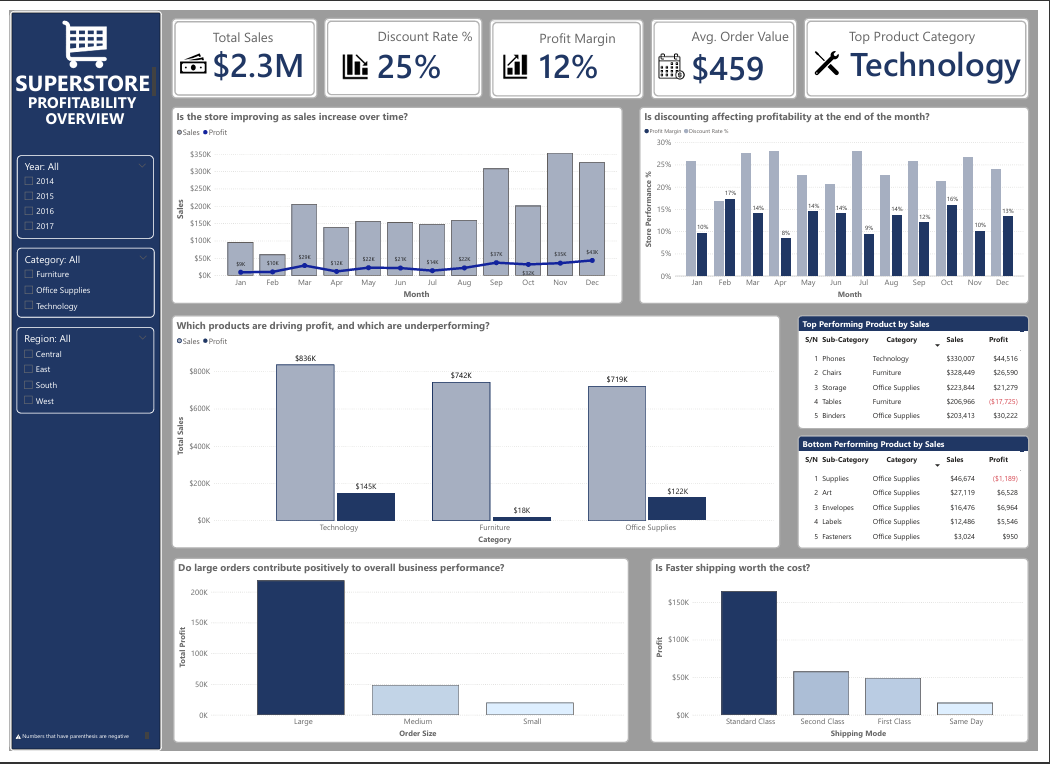

This screenshot's page, from the dashboard's own definition file:
{"tool":"powerbi","page":{"name":"Page 2","canvas":[2500,1800],"ordinal":1},"visuals":[{"type":"shape","box":[0,0,370,1800],"z":0},{"type":"group","id":"g1","title":"Group 1","box":[833.4,34.4,308,168],"z":0,"group":"g9"},{"type":"card","title":"Total Order","fields":{"Values":["Sample - Superstore.Discount Rate %"]},"box":[833.4,52.4,276,150],"z":0,"group":"g1"},{"type":"card","fields":{"Values":["Sum(Orders_Summary.Total Sales)"]},"box":[471.1,54.4,264.5,137.8],"z":0,"group":"g2"},{"type":"card","fields":{"Values":["Sample - Superstore.Profit Margin"]},"box":[1234,68.3,250,119],"z":0,"group":"g7"},{"type":"image","box":[405.6,74.3,80,107.3],"z":0,"group":"g4"},{"type":"textbox","box":[8.3,133.3,351.7,80],"z":0,"group":"g3"},{"type":"shape","box":[1930,17.1,547.5,197.5],"z":1000},{"type":"shape","box":[1165.7,20,375,195],"z":1000,"group":"g8"},{"type":"group","id":"g2","title":"Group 4","box":[462.1,34.4,273.5,157.8],"z":1000,"group":"g4"},{"type":"textbox","box":[462.1,34.4,210,69],"z":1000,"group":"g2"},{"type":"textbox","box":[878.4,34.4,263,64],"z":1000,"group":"g1"},{"type":"card","fields":{"Values":["Sample - Superstore.AOV"]},"box":[1613,77.7,263,110],"z":1000,"group":"g11"},{"type":"textbox","box":[6.9,231.4,351.4,80],"z":1000,"group":"g3"},{"type":"shape","box":[1557.8,19.5,355.7,195.7],"z":2000,"group":"g12"},{"type":"textbox","box":[0,191.4,351.4,80],"z":2000},{"type":"shape","box":[764.1,17.3,385,195],"z":3000},{"type":"lineClusteredColumnComboChart","title":"Is the store improving as sales increase over time?","fields":{"Category":["Sample - Superstore.Month"],"Y":["Sum(Sample - Superstore.Sales)"],"Y2":["Sum(Sample - Superstore.Profit)"]},"box":[392.5,232.5,1097.5,480],"z":4000},{"type":"lineClusteredColumnComboChart","title":"Is discounting affecting profitability at the end of the month?","fields":{"Category":["Sample - Superstore.Month"],"Y":["Sample - Superstore.Profit Margin","Sample - Superstore.Discount Impact%"]},"box":[1530,232.5,947.5,480],"z":5000},{"type":"clusteredColumnChart","title":"Which products are driving profit, and which are underperforming?","fields":{"Category":["Sample - Superstore.Category"],"Y":["Sum(Sample - Superstore.Sales)","Sum(Sample - Superstore.Profit)"]},"box":[393.3,740,1480,566.7],"z":6000},{"type":"tableEx","title":"Top  Performing Product by Sales","fields":{"Values":["Sample - Superstore.S/N","Sample - Superstore.Sub-Category","Sample - Superstore.Category","Sum(Sample - Superstore.Sales)","Sum(Sample - Superstore.Profit)"]},"box":[1915,740,563.3,276.7],"z":7000},{"type":"tableEx","title":"Bottom Performing Product by Sales","fields":{"Values":["Sample - Superstore.Row Number","Sample - Superstore.Sub-Category","Sample - Superstore.Category","Sum(Sample - Superstore.Sales)","Sum(Sample - Superstore.Profit)"]},"box":[1915,1031.7,563.3,276.7],"z":8000},{"type":"clusteredColumnChart","title":"Do large orders contribute positively to overall business performance?","fields":{"Category":["Orders_Summary.Order Size"],"Y":["Sum(Orders_Summary.Total Profit)"]},"box":[396.7,1330,1108,450],"z":9000},{"type":"clusteredColumnChart","title":"Is Faster shipping worth the cost?","fields":{"Category":["Sample - Superstore.Ship Mode"],"Y":["Sum(Sample - Superstore.Profit)"]},"box":[1556.7,1330,920,450],"z":10000},{"type":"card","title":"Top Product Category","fields":{"Values":["Orders_Summary.Top Category"]},"box":[2023.4,63,456,118],"z":11000,"group":"g13"},{"type":"slicer","fields":{"Values":["Sample - Superstore.Category"]},"box":[17,576.5,335,170],"z":11000},{"type":"slicer","fields":{"Values":["Sample - Superstore.Order Date.Variation.Date Hierarchy.Year"]},"box":[17.5,351.5,332.5,202.5],"z":12000},{"type":"shape","box":[392.5,17.5,355,195],"z":13000,"group":"g10"},{"type":"group","id":"g3","title":"Group 2","box":[6.9,133.3,353.1,178.1],"z":13000},{"type":"textbox","box":[25,1750,317.5,30],"z":14000},{"type":"group","id":"g4","title":"Group 5","box":[405.6,34.4,330,157.8],"z":15000,"group":"g10"},{"type":"image","box":[7.5,1745,25,37.5],"z":15000},{"type":"image","box":[77.5,7.5,215,147.5],"z":16000},{"type":"textbox","box":[2023.4,34,341,58],"z":16000,"group":"g13"},{"type":"textbox","box":[1643,33.4,260,66],"z":17000,"group":"g11"},{"type":"group","id":"g5","title":"Group 9","box":[1946,34,533.4,147],"z":17000},{"type":"group","id":"g6","title":"Group 10","box":[765,34.4,376.4,168],"z":18000},{"type":"group","id":"g7","title":"Group 3","box":[1166,39.3,325.5,148],"z":18000,"group":"g8"},{"type":"group","id":"g8","title":"Group 7","box":[1165.7,20,375,195],"z":19000},{"type":"group","id":"g9","title":"Group 6","box":[833.4,34.4,308,168],"z":19000,"group":"g6"},{"type":"group","id":"g10","title":"Group 11","box":[392.5,17.5,355,195],"z":20000},{"type":"group","id":"g11","title":"Group 7","box":[1571,33.4,332,154.3],"z":20000,"group":"g12"},{"type":"textbox","box":[1268.2,39.3,223.3,53.3],"z":20000,"group":"g7"},{"type":"image","box":[1571,90,75,93],"z":20000,"group":"g11"},{"type":"group","id":"g12","title":"Group 11","box":[1557.8,19.5,355.7,195.7],"z":21000},{"type":"group","id":"g13","title":"Group 8","box":[2023.4,34,456,147],"z":21000,"group":"g5"},{"type":"image","box":[1166,91.3,124,90],"z":22000,"group":"g7"},{"type":"slicer","fields":{"Values":["Sample - Superstore.Region"]},"box":[16,769,335,210],"z":22000},{"type":"image","box":[1946,79,80,95],"z":25001,"group":"g5"},{"type":"image","box":[765,90.4,149,92],"z":26001,"group":"g6"}]}

Visuals, with their boxes in screenshot pixels (x1, y1, x2, y2), scaled from the page's 2500x1800 canvas onto the 1050x764 screenshot:
shape: Rect(0, 0, 155, 763)
"Group 1" group: Rect(350, 15, 479, 86)
"Total Order" card: Rect(350, 22, 466, 86)
card - Sum(Orders_Summary.Total Sales): Rect(198, 23, 309, 82)
card - Sample - Superstore.Profit Margin: Rect(518, 29, 623, 79)
image: Rect(170, 32, 204, 77)
textbox: Rect(3, 57, 151, 91)
shape: Rect(811, 7, 1041, 91)
shape: Rect(490, 8, 647, 91)
"Group 4" group: Rect(194, 15, 309, 82)
textbox: Rect(194, 15, 282, 44)
textbox: Rect(369, 15, 479, 42)
card - Sample - Superstore.AOV: Rect(677, 33, 788, 80)
textbox: Rect(3, 98, 150, 132)
shape: Rect(654, 8, 804, 91)
textbox: Rect(0, 81, 148, 115)
shape: Rect(321, 7, 483, 90)
"Is the store improving as sales increase over time?" lineClusteredColumnComboChart: Rect(165, 99, 626, 302)
"Is discounting affecting profitability at the end of the month?" lineClusteredColumnComboChart: Rect(643, 99, 1041, 302)
"Which products are driving profit, and which are underperforming?" clusteredColumnChart: Rect(165, 314, 787, 555)
"Top  Performing Product by Sales" tableEx: Rect(804, 314, 1041, 432)
"Bottom Performing Product by Sales" tableEx: Rect(804, 438, 1041, 555)
"Do large orders contribute positively to overall business performance?" clusteredColumnChart: Rect(167, 565, 632, 756)
"Is Faster shipping worth the cost?" clusteredColumnChart: Rect(654, 565, 1040, 756)
"Top Product Category" card: Rect(850, 27, 1041, 77)
slicer - Sample - Superstore.Category: Rect(7, 245, 148, 317)
slicer - Sample - Superstore.Order Date.Variation.Date Hierarchy.Year: Rect(7, 149, 147, 235)
shape: Rect(165, 7, 314, 90)
"Group 2" group: Rect(3, 57, 151, 132)
textbox: Rect(10, 743, 144, 756)
"Group 5" group: Rect(170, 15, 309, 82)
image: Rect(3, 741, 14, 757)
image: Rect(33, 3, 123, 66)
textbox: Rect(850, 14, 993, 39)
textbox: Rect(690, 14, 799, 42)
"Group 9" group: Rect(817, 14, 1041, 77)
"Group 10" group: Rect(321, 15, 479, 86)
"Group 3" group: Rect(490, 17, 626, 79)
"Group 7" group: Rect(490, 8, 647, 91)
"Group 6" group: Rect(350, 15, 479, 86)
"Group 11" group: Rect(165, 7, 314, 90)
"Group 7" group: Rect(660, 14, 799, 80)
textbox: Rect(533, 17, 626, 39)
image: Rect(660, 38, 691, 78)
"Group 11" group: Rect(654, 8, 804, 91)
"Group 8" group: Rect(850, 14, 1041, 77)
image: Rect(490, 39, 542, 77)
slicer - Sample - Superstore.Region: Rect(7, 326, 147, 416)
image: Rect(817, 34, 851, 74)
image: Rect(321, 38, 384, 77)
